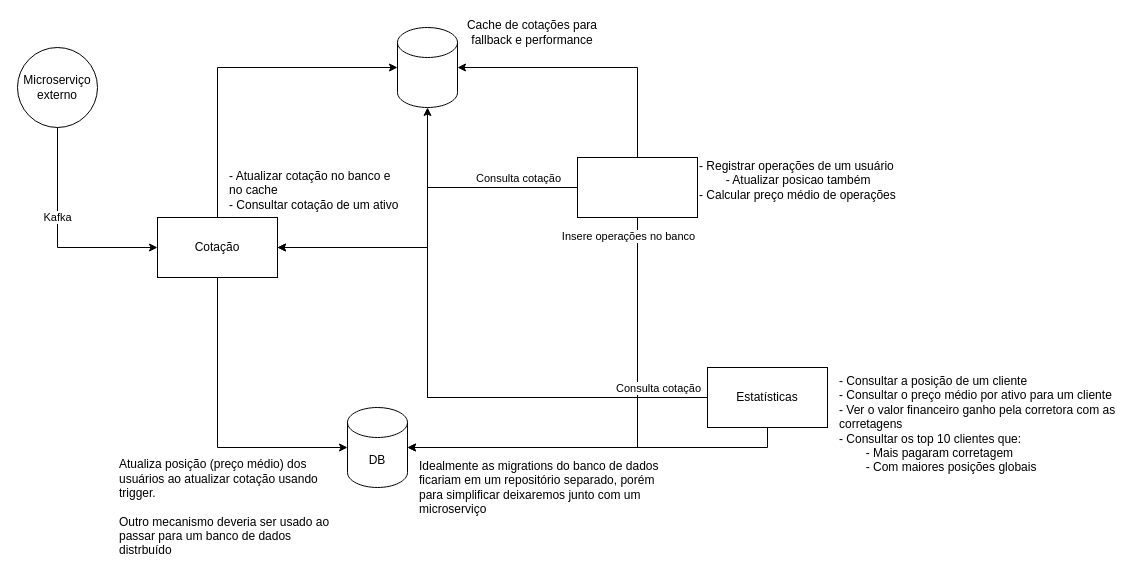
This 1135x575 diagram has some shape labels left out. The box of each missing label's shape, as (x1, y1, x2, y2) in pixels:
Operações: (576, 156, 698, 218)
Redis: (396, 26, 458, 108)
